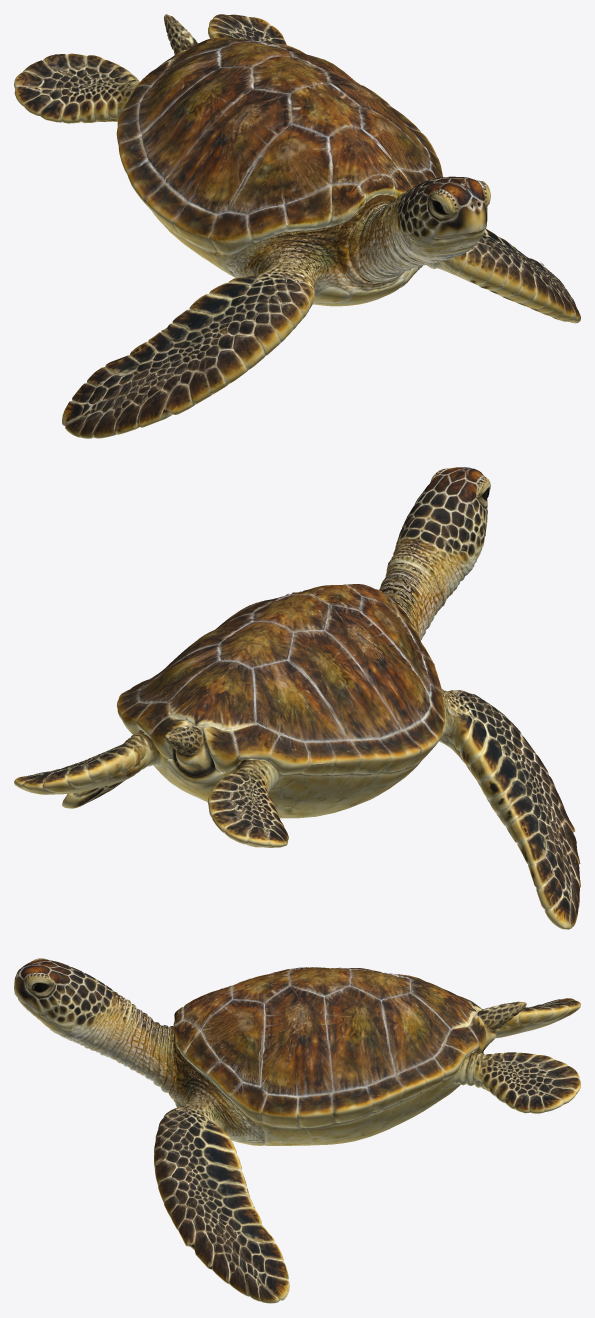
File: sea-turtle.glb
3 views of the same model, one above another, from view 1: azimuth 30°, elevation 25°; view 2: azimuth 150°, elevation 25°; view 3: azimuth 270°, elevation 25° (orthographic). The views are drawn at different scales.
Parts seen in each view (by area): view 1: sea-turtle; view 2: sea-turtle; view 3: sea-turtle.
Boxes of the visible parts, box(x1,y1,x2,y2) form: sea-turtle: box(14, 14, 580, 438); sea-turtle: box(14, 467, 580, 929); sea-turtle: box(14, 958, 580, 1303).
Size of the model in its own units: 1.01 by 0.5621 by 1.2.
Materials: 1 (1 with a texture image).
